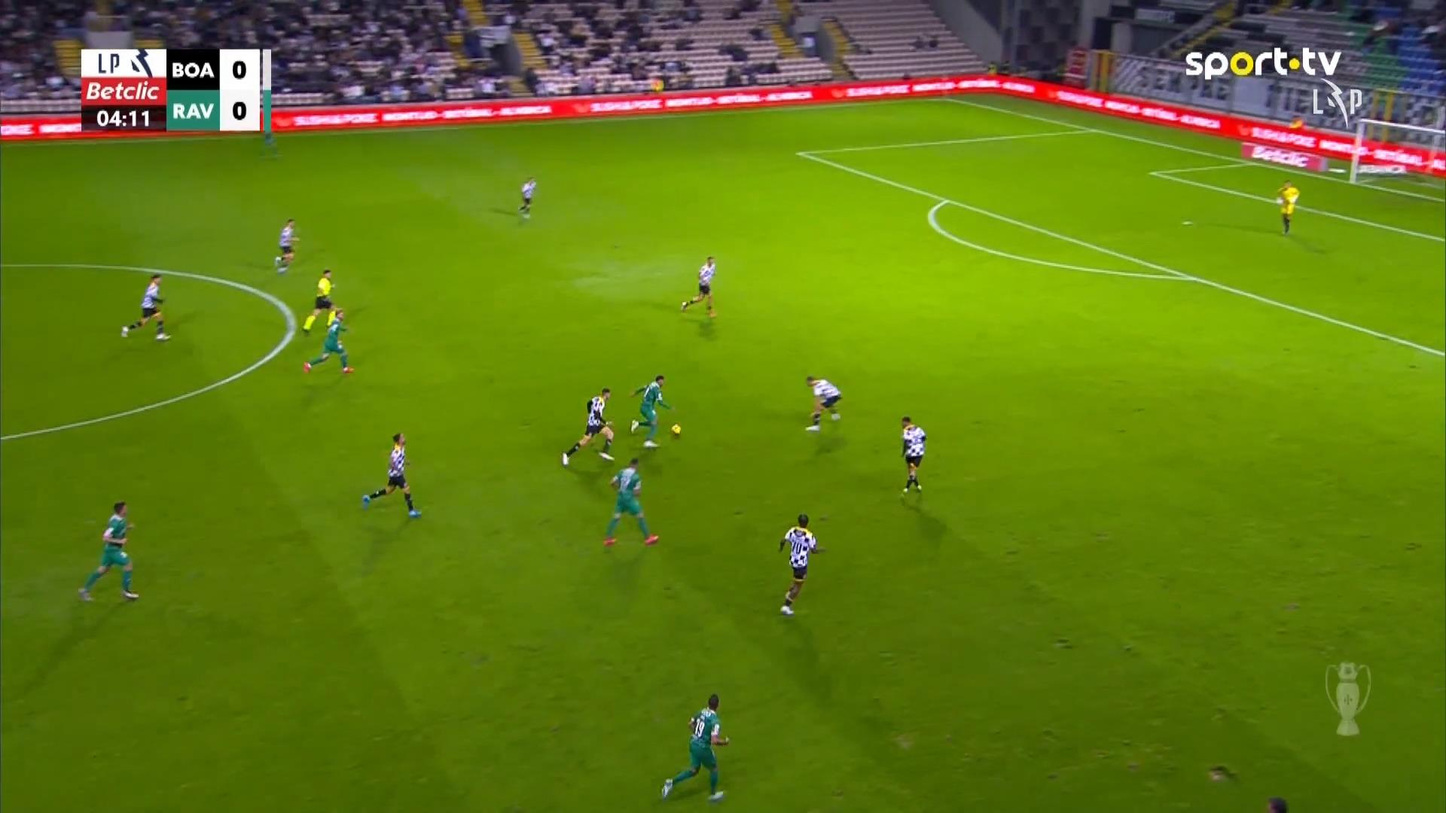ball: (670, 423, 680, 436)
goalkeeper: (1275, 179, 1299, 235)
player: (660, 693, 730, 801), (77, 500, 139, 601), (361, 431, 422, 518), (602, 456, 659, 546), (776, 513, 825, 615), (560, 386, 615, 466), (302, 307, 354, 373), (120, 273, 171, 340), (628, 374, 673, 448), (679, 255, 718, 318), (804, 373, 842, 431), (899, 415, 926, 493), (273, 218, 300, 273), (517, 176, 536, 217)
referee: (300, 267, 337, 334)
